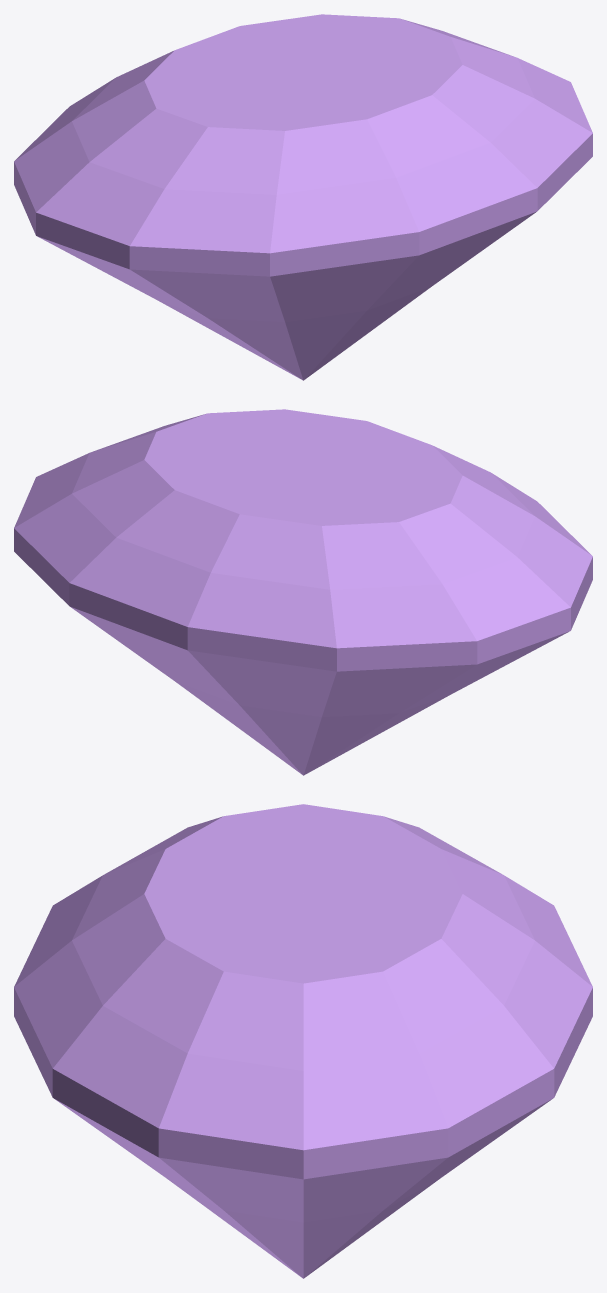
The model's file is amethyst-glass.glb.
3 renders of one model, top to bottom at view 1: azimuth 30°, elevation 25°; view 2: azimuth 150°, elevation 25°; view 3: azimuth 270°, elevation 25°, orthographic. The views are drawn at different scales.
Parts seen in each view (by area): view 1: Amethyst; view 2: Amethyst; view 3: Amethyst.
Boxes of the visible parts, x1,y1,x2,y2 form: Amethyst: [14, 14, 592, 380]; Amethyst: [14, 409, 592, 775]; Amethyst: [14, 804, 592, 1278].
Bounding box in the file's own units: 2.4 × 1.32 × 1.8.
